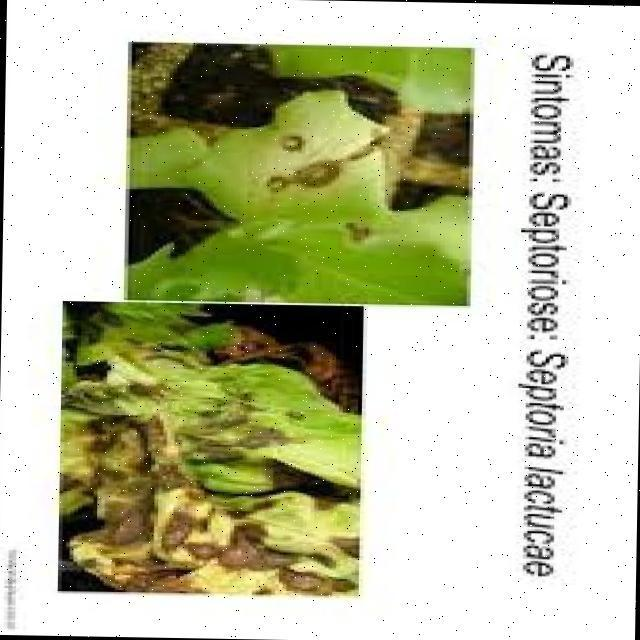Septoria_Blight: (77, 359, 331, 589), (201, 99, 405, 227)
